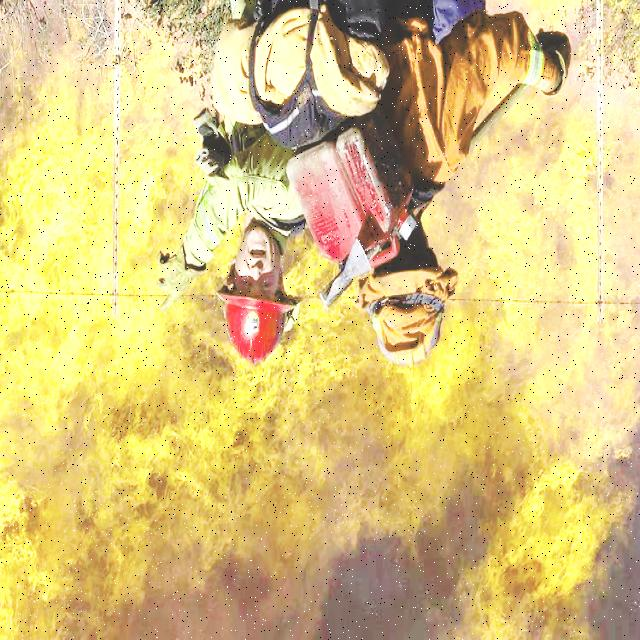api: (187, 196, 483, 640), (1, 66, 201, 640), (472, 64, 640, 640)
